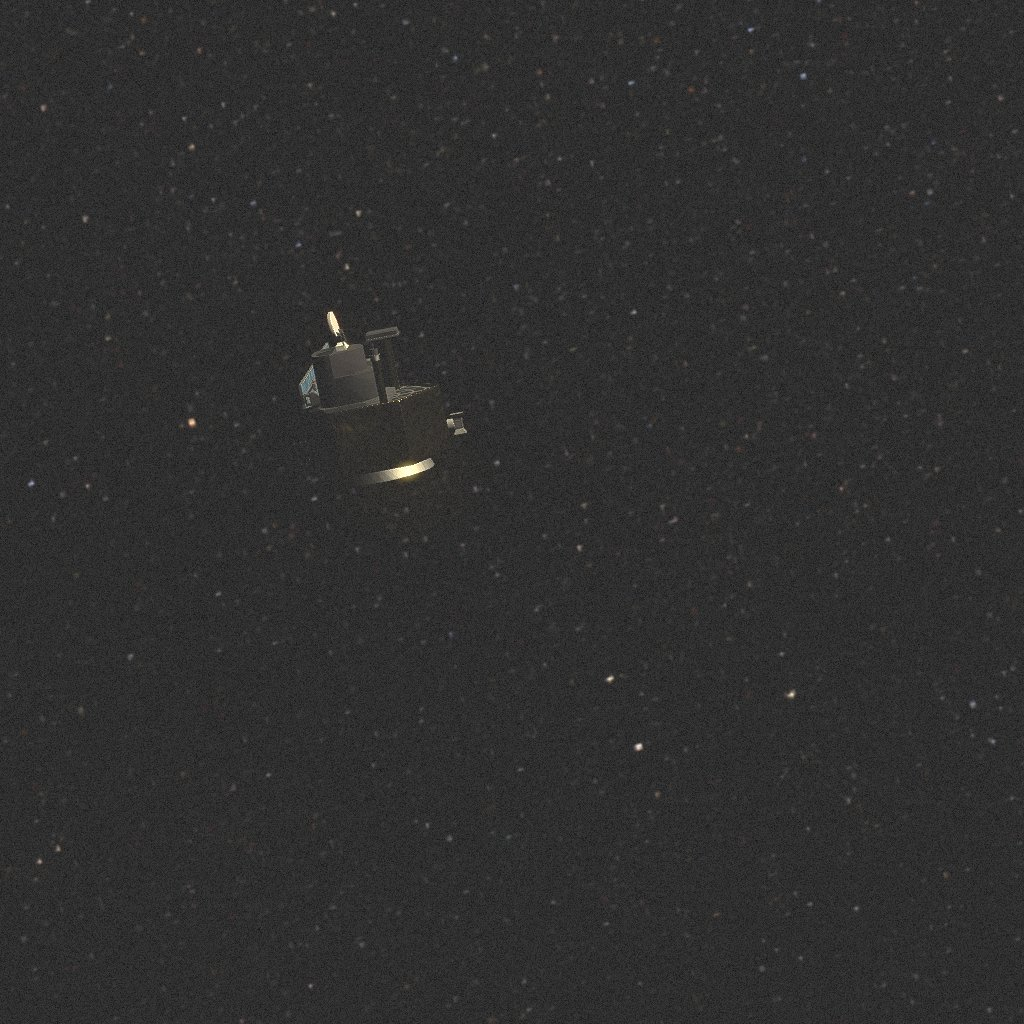earth_observation_sat_1: (294, 312, 467, 486)
